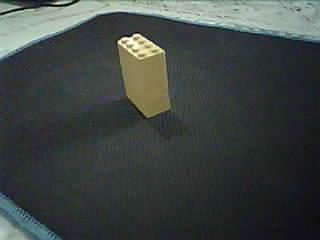lego: (115, 32, 172, 119)
